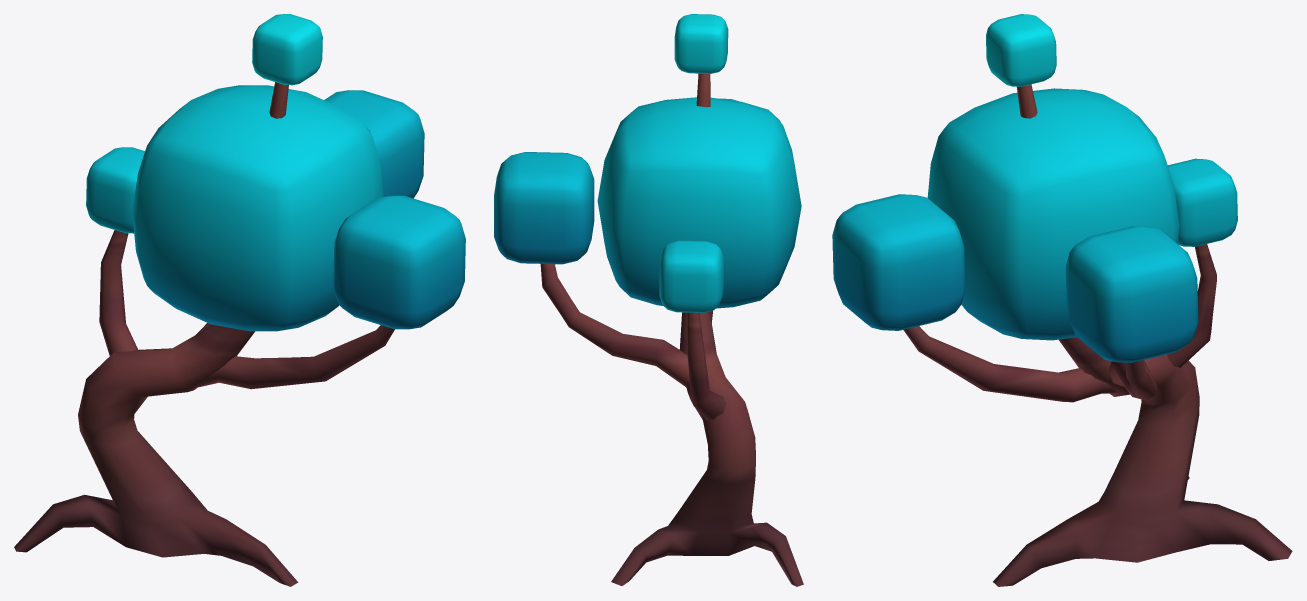
File: arboles17.fbx
The picture shows the model from 3 angles, left to right: view 1: azimuth 30°, elevation 25°; view 2: azimuth 150°, elevation 25°; view 3: azimuth 270°, elevation 25°; orthographic projection. The views are drawn at different scales.
Parts seen in each view (by area): view 1: Tree.024_Base_Material_0.007; view 2: Tree.024_Base_Material_0.007; view 3: Tree.024_Base_Material_0.007.
Boxes of the visible parts, x1,y1,x2,y2 form: Tree.024_Base_Material_0.007: (14, 14, 465, 586); Tree.024_Base_Material_0.007: (494, 14, 803, 586); Tree.024_Base_Material_0.007: (832, 14, 1292, 586).
Size of the model in its own units: 954 by 1341 by 991.
